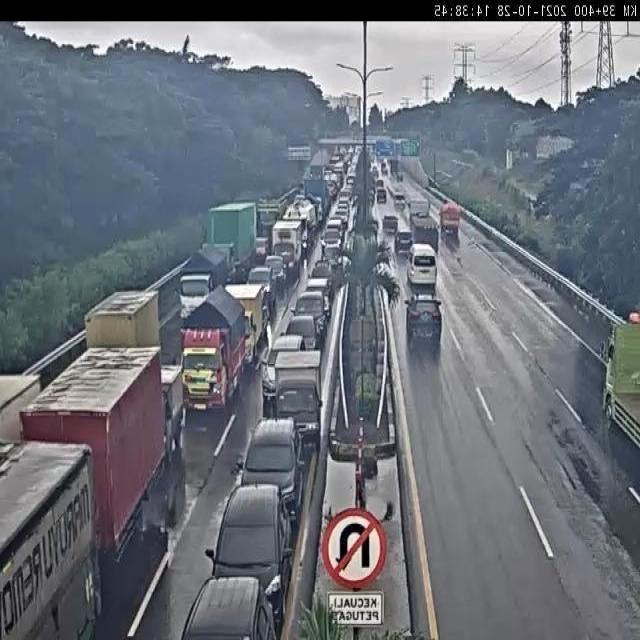Car: (206, 484, 294, 632), (238, 419, 302, 524), (263, 334, 305, 409), (405, 296, 443, 356), (284, 312, 322, 358), (407, 244, 437, 292), (247, 265, 277, 310), (303, 279, 331, 322), (322, 227, 342, 260), (394, 229, 412, 257), (337, 191, 352, 222), (382, 214, 398, 237), (325, 177, 339, 201), (329, 154, 342, 177), (376, 181, 386, 203), (394, 191, 406, 208), (370, 164, 378, 184), (346, 174, 355, 188), (346, 146, 354, 160), (382, 160, 388, 174), (396, 170, 403, 180)
Truck: (32, 340, 173, 524), (0, 442, 100, 640), (174, 282, 253, 408), (86, 284, 161, 350), (191, 195, 261, 262), (166, 254, 224, 319), (440, 200, 461, 240)
